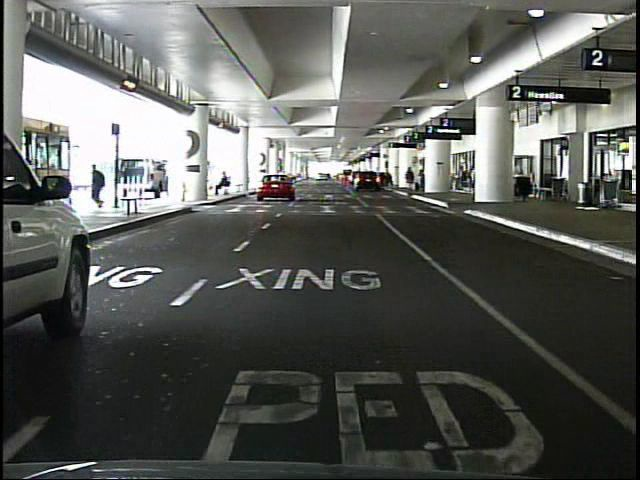person: (93, 163, 111, 208), (217, 171, 235, 196), (406, 164, 418, 193)
